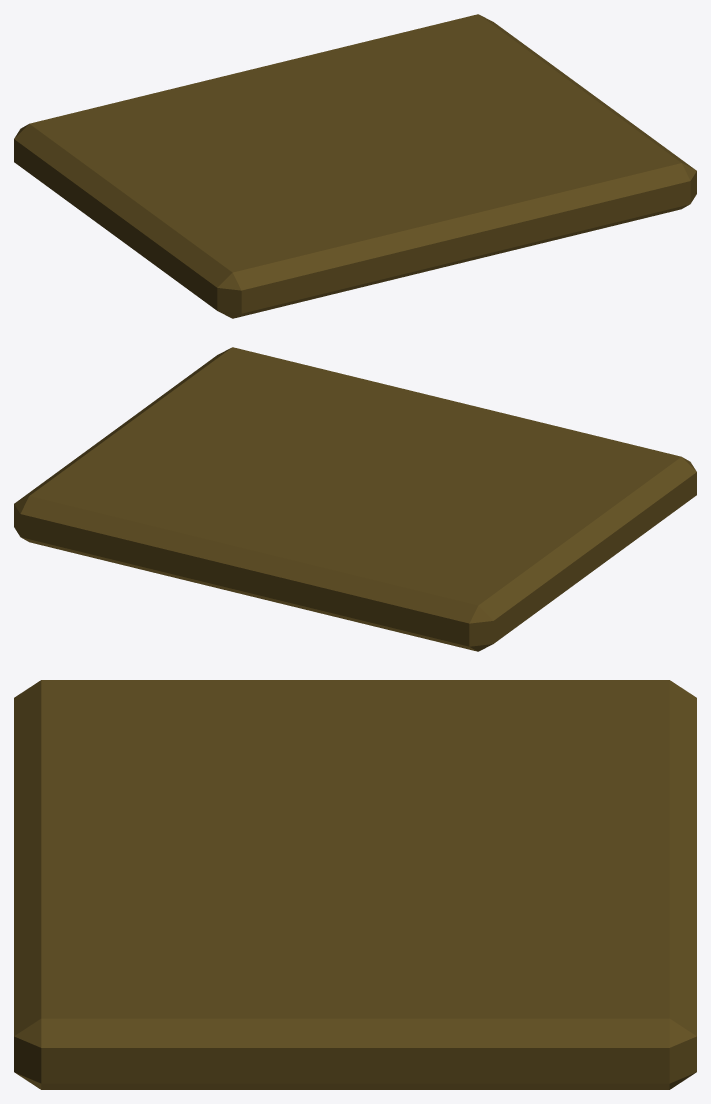
File: ButterPlate.fbx
3 renders of one model, top to bottom at view 1: azimuth 30°, elevation 25°; view 2: azimuth 150°, elevation 25°; view 3: azimuth 270°, elevation 25°, orthographic. The views are drawn at different scales.
Visible parts, largest first — view 1: pCube1; view 2: pCube1; view 3: pCube1.
Part boxes in pixels (box(x1,y1,x2,y2)): pCube1: box(14, 14, 696, 318); pCube1: box(14, 347, 696, 651); pCube1: box(14, 680, 696, 1089).
Bounding box in the file's own units: 1.25 × 0.1154 × 1.
